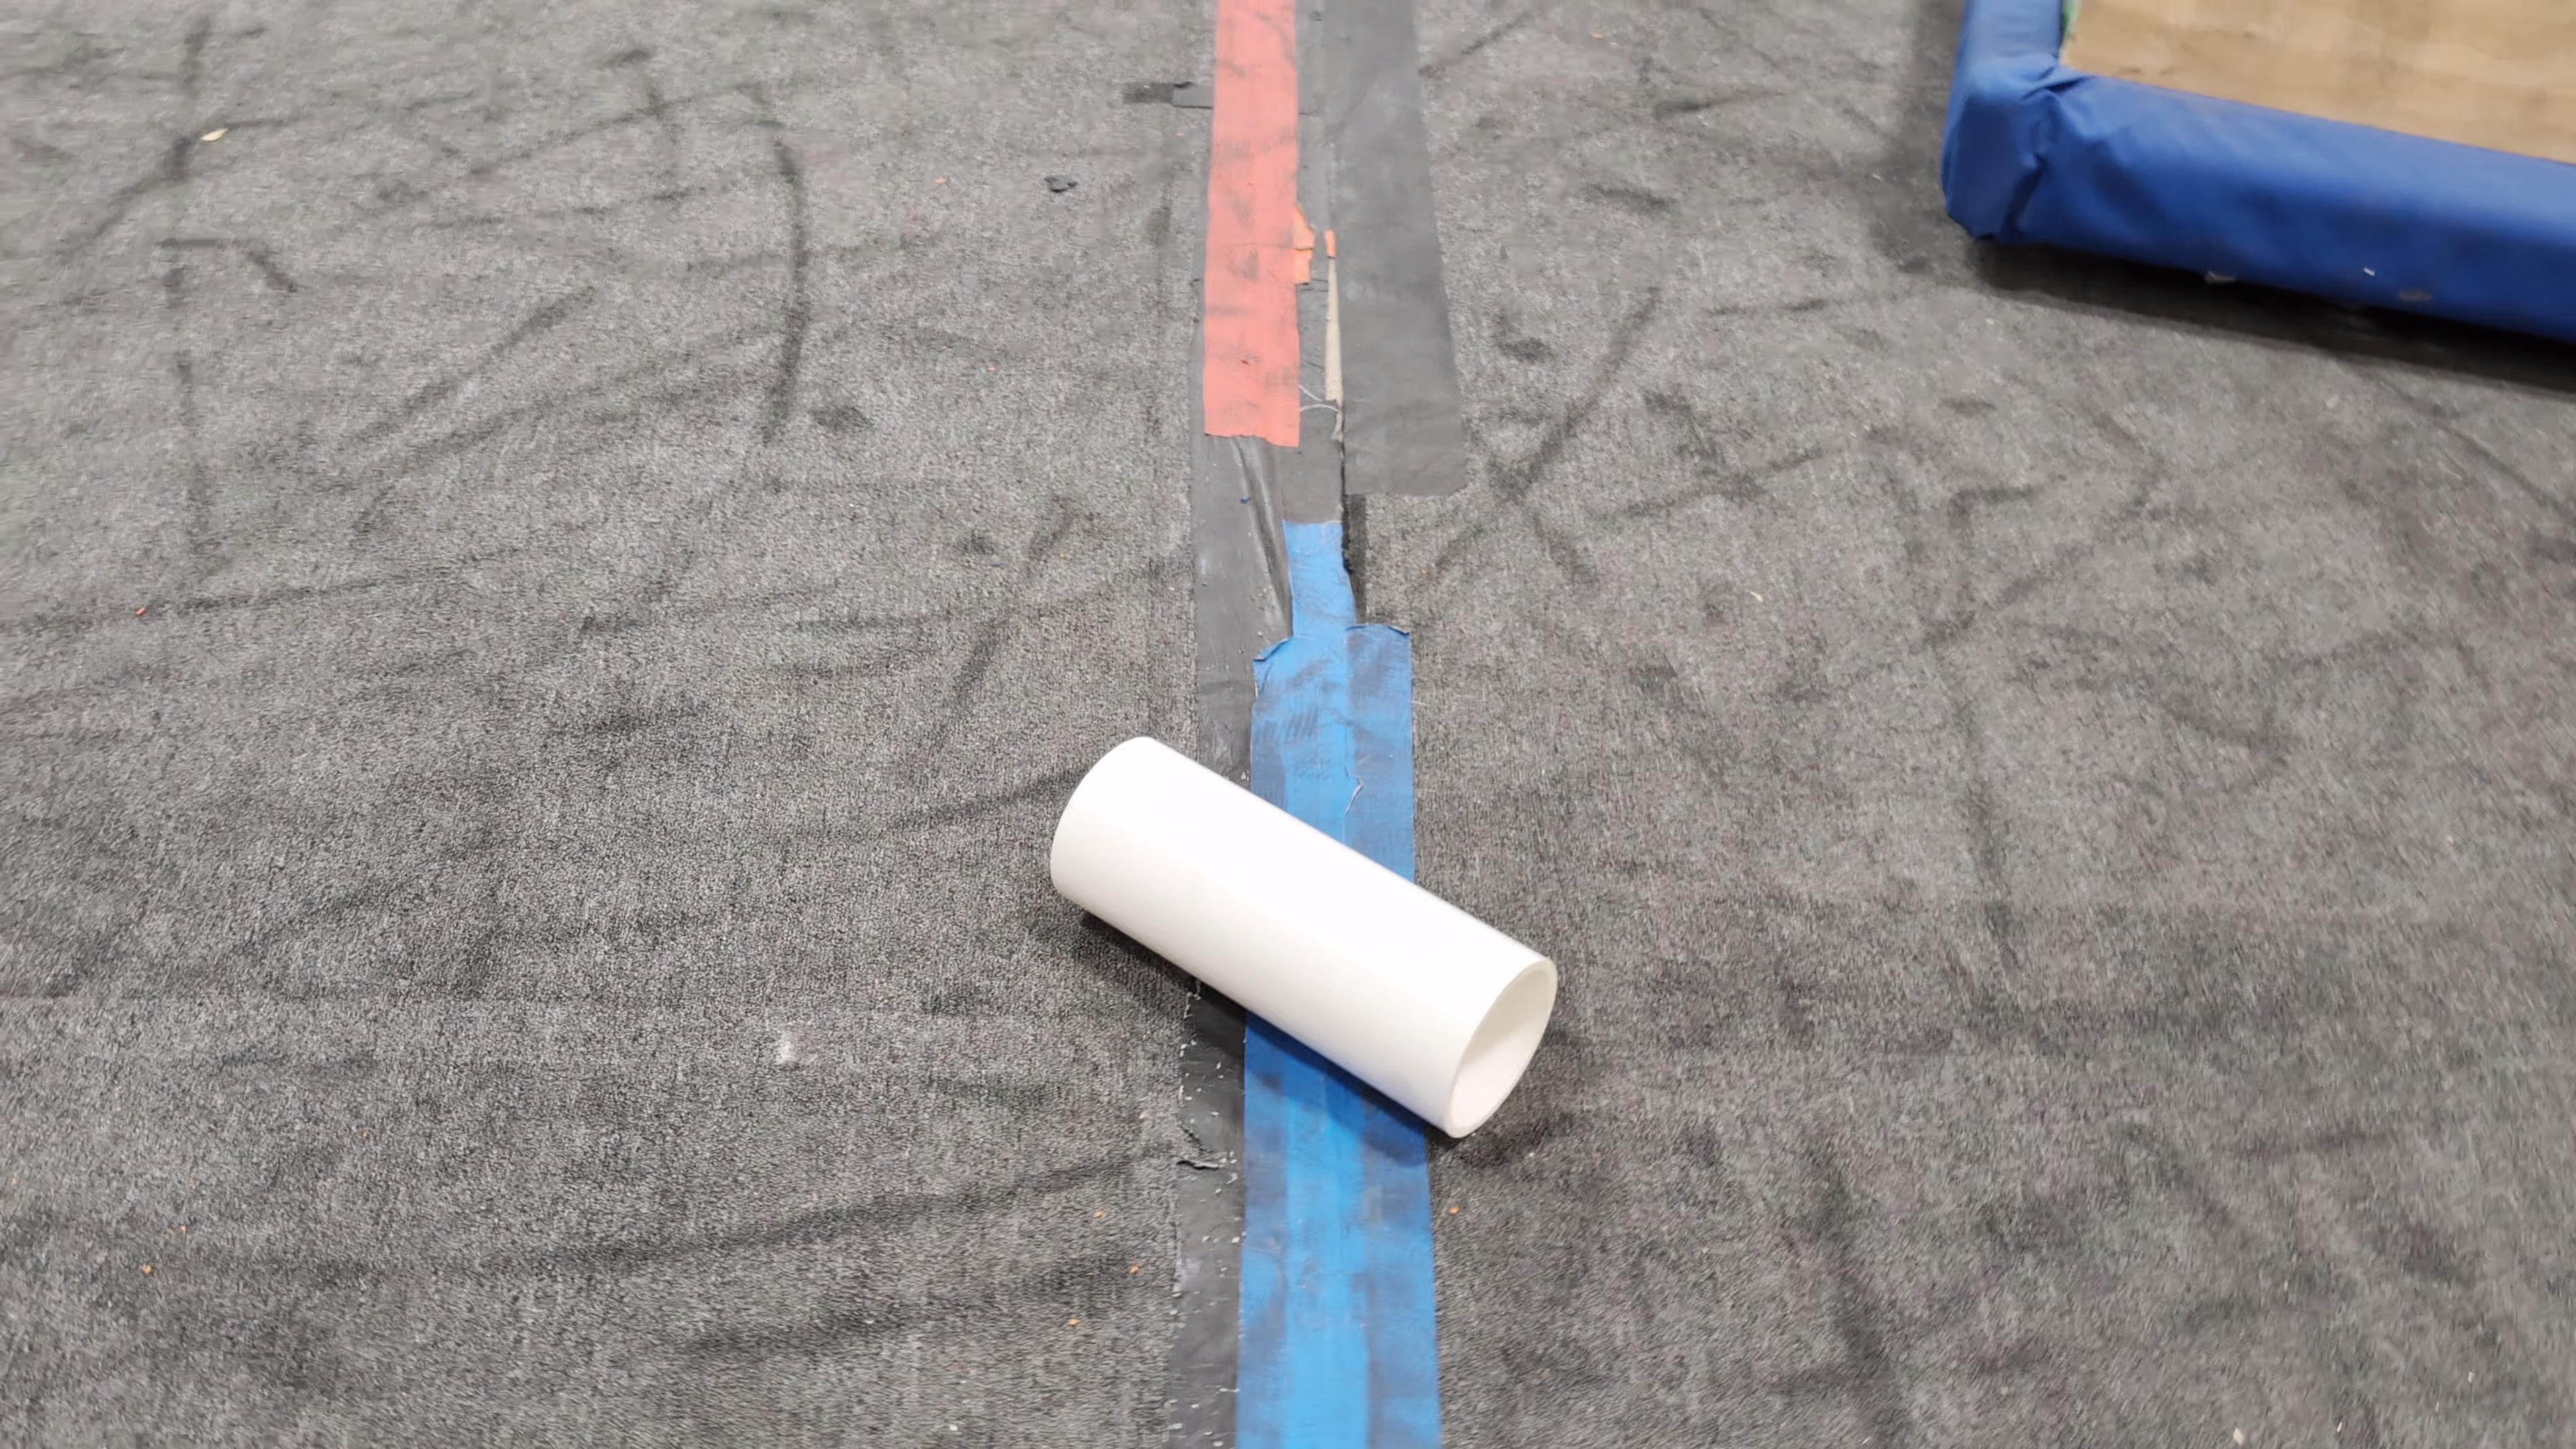coral: (1047, 727, 1562, 1143)
